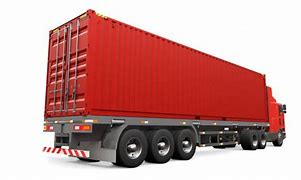bigtruck: (33, 14, 296, 168)
